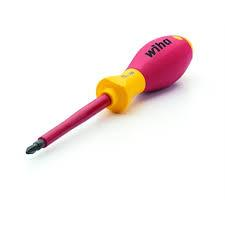screwdriver: (37, 34, 193, 145), (25, 136, 46, 153)
